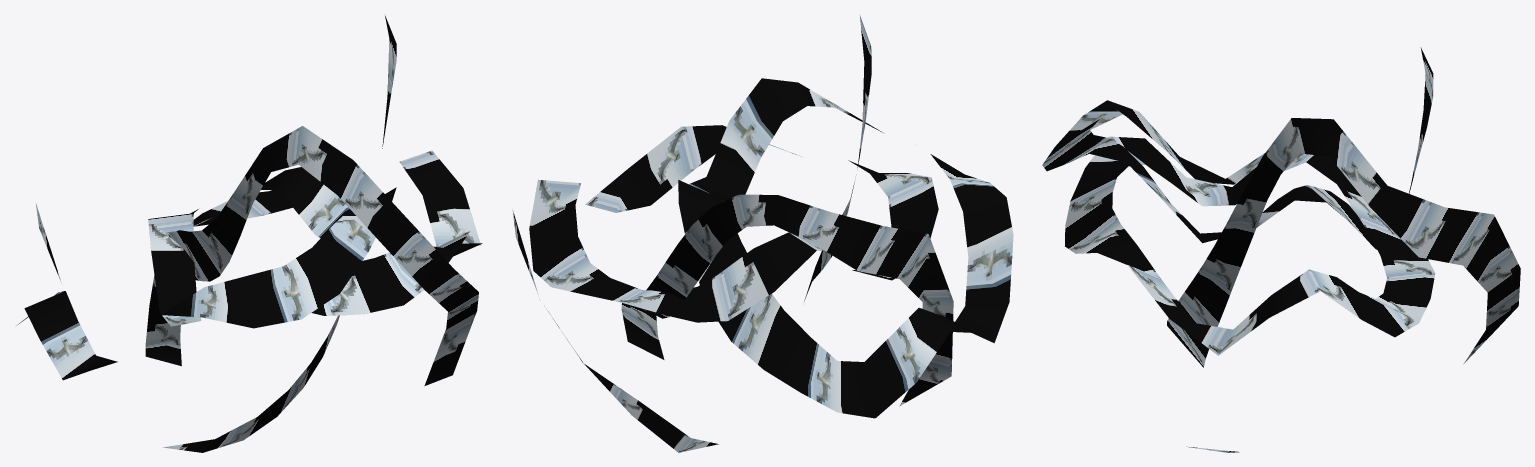
The model's file is seagulls.glb.
The picture shows the model from 3 angles, left to right: view 1: azimuth 30°, elevation 25°; view 2: azimuth 150°, elevation 25°; view 3: azimuth 270°, elevation 25°; orthographic projection. The views are drawn at different scales.
Visible parts, largest first — view 1: Seagulls; view 2: Seagulls; view 3: Seagulls.
Part boxes in pixels (x1,y1,x2,y2): Seagulls: [16, 15, 482, 452]; Seagulls: [512, 14, 1013, 452]; Seagulls: [1042, 47, 1520, 452].
Bounding box in the file's own units: 10.55 × 8.28 × 9.73.
Materials: 1 (1 with a texture image).
